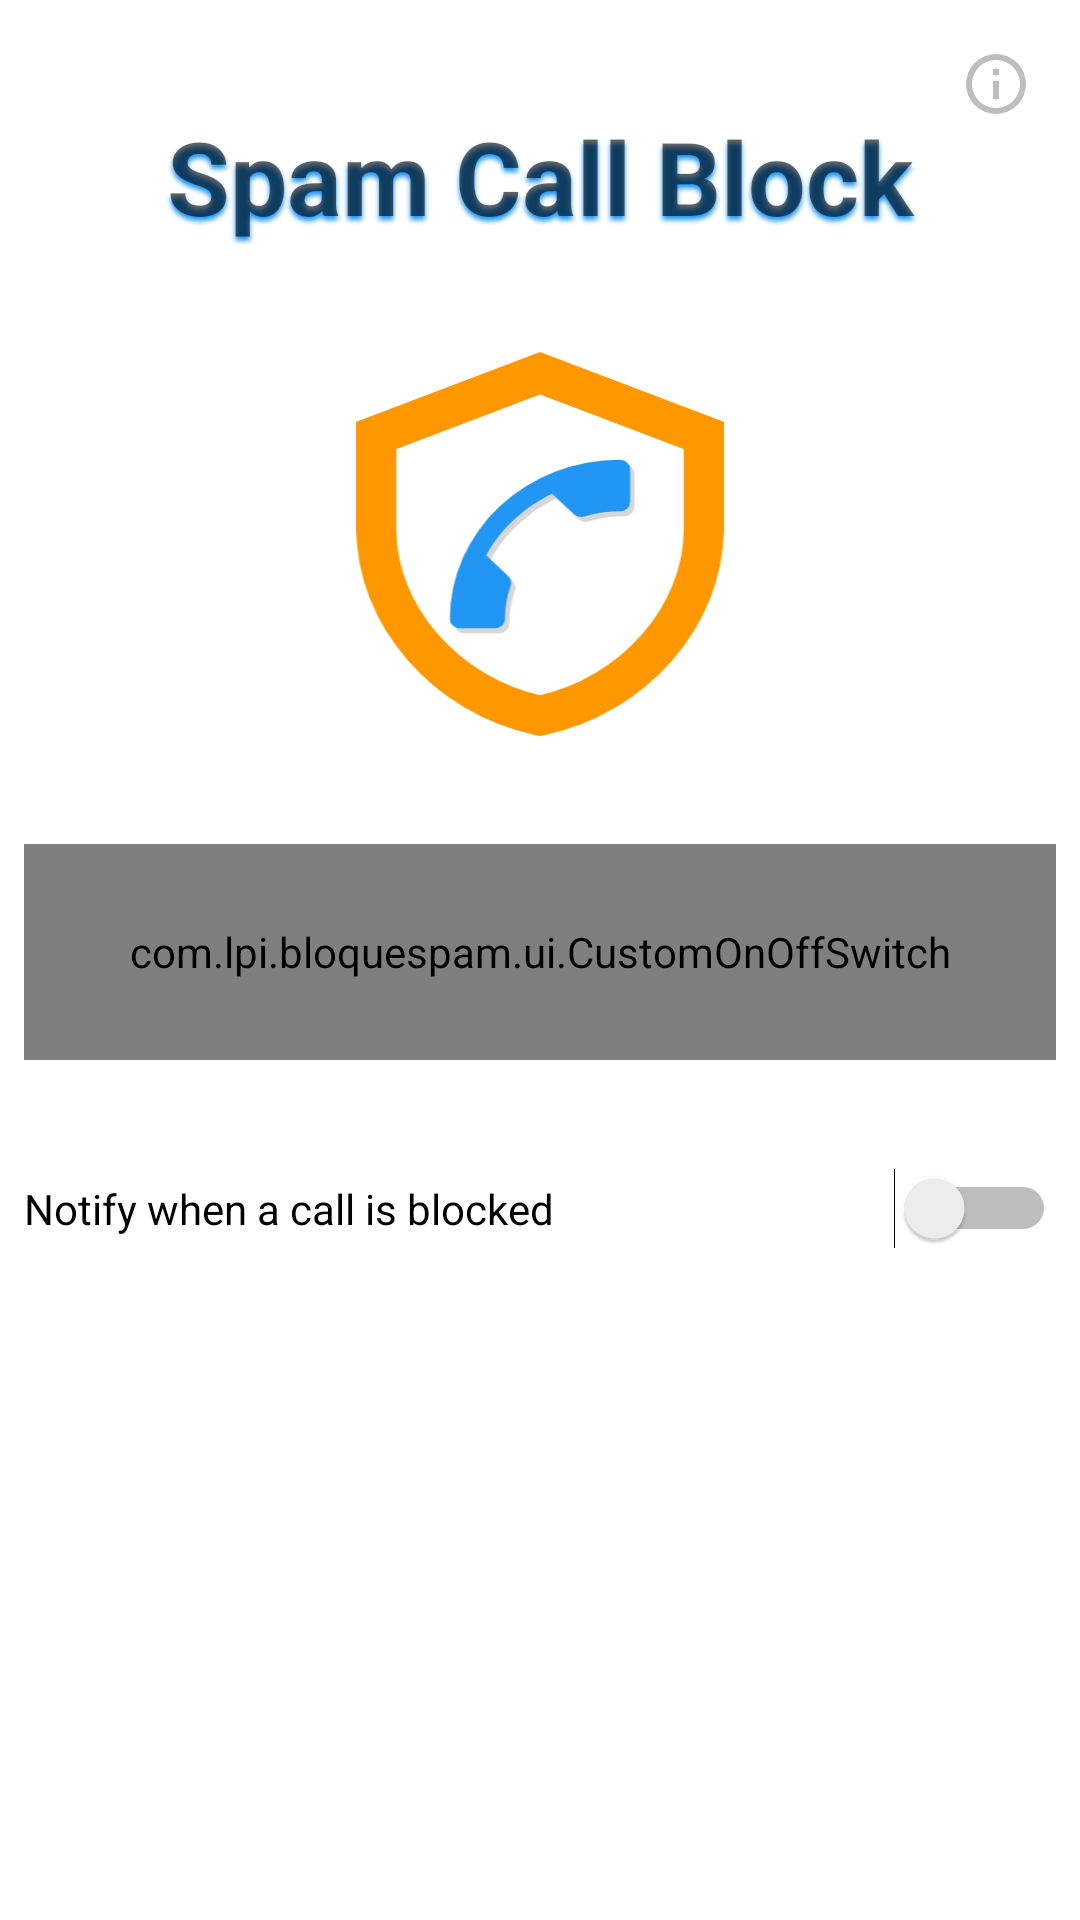

Screen size 1080px x 1920px. Icon name, then its box in pixels as (x1, y1, x2, y2):
information: (966, 54, 1026, 114)
